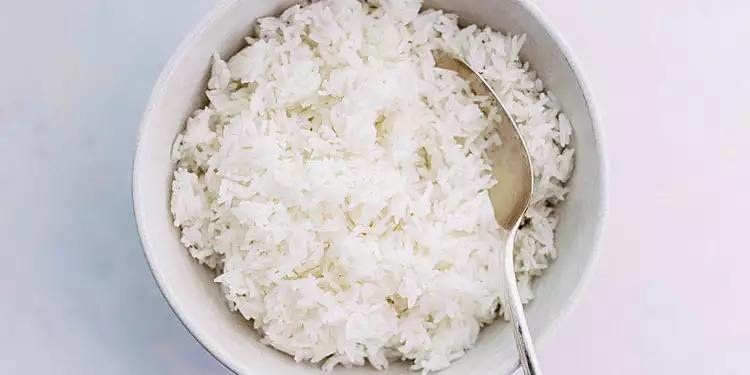rice: (173, 0, 569, 374)
